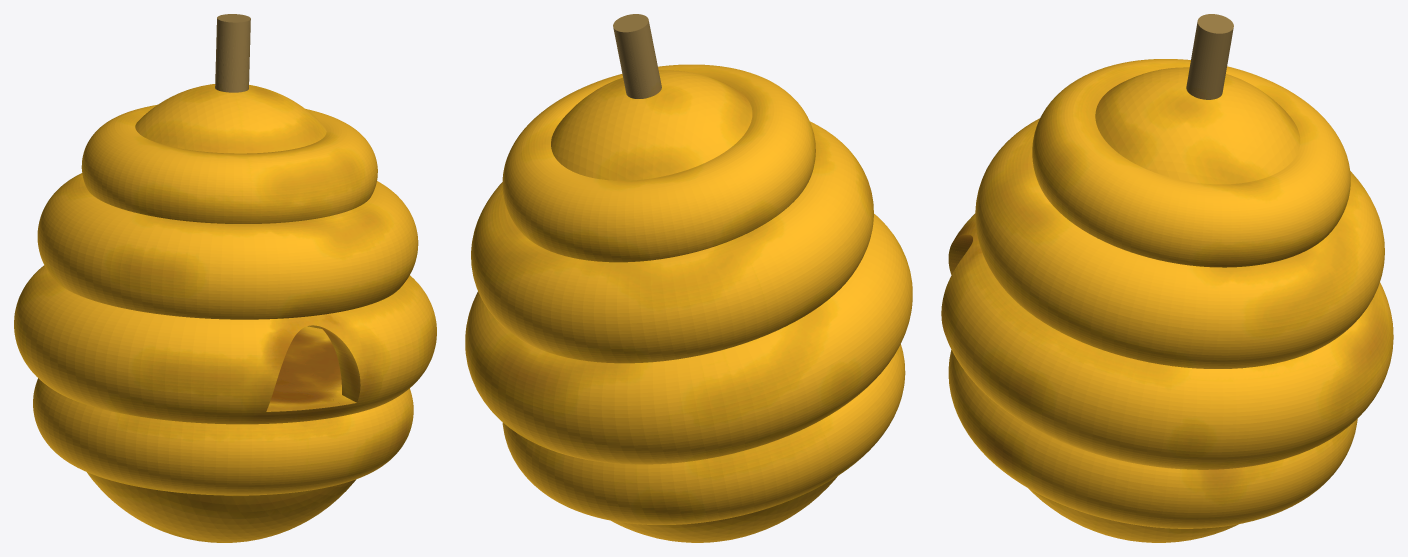
File: Panal.fbx
3 views of the same model, side by side, from view 1: azimuth 30°, elevation 25°; view 2: azimuth 150°, elevation 25°; view 3: azimuth 270°, elevation 25° (orthographic). The views are drawn at different scales.
Visible parts, largest first — view 1: node_id28 (×2); view 2: node_id28 (×2); view 3: node_id28 (×2).
Boxes of the visible parts, <box> form: node_id28 (×2): <box>14,14,436,542</box>; node_id28 (×2): <box>465,14,912,542</box>; node_id28 (×2): <box>941,14,1393,542</box>.
Size of the model in its own units: 0.4018 by 0.509 by 0.398.
2 materials, 2 textured.
